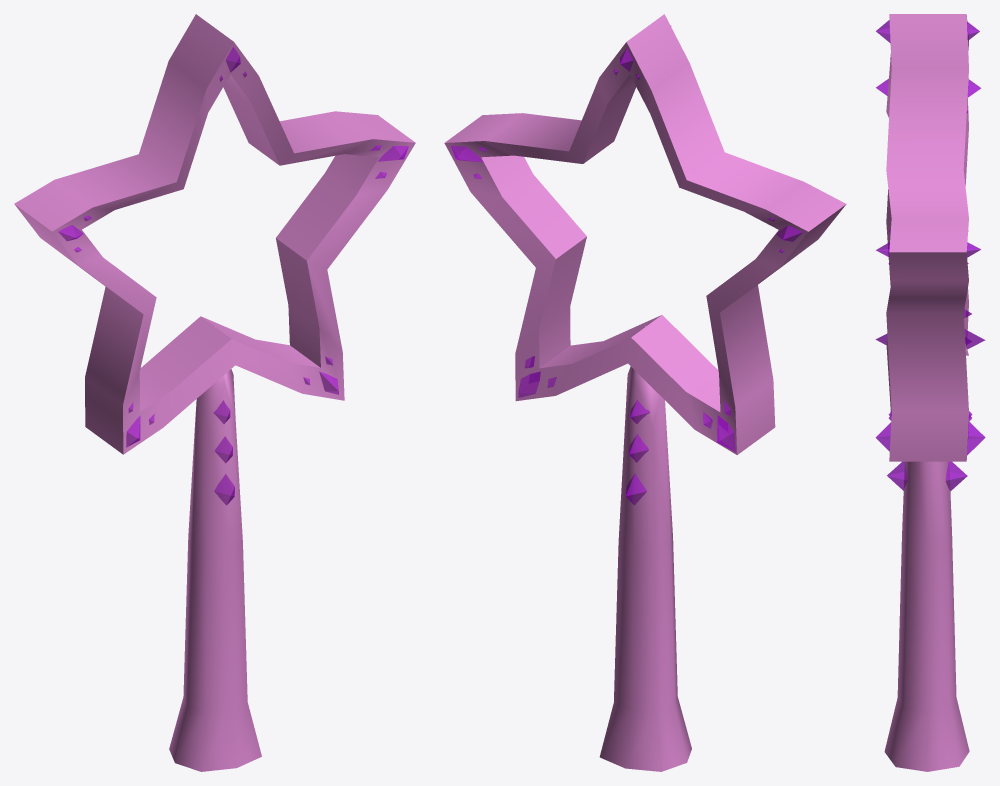
File: Wand.fbx
3 views of the same model, side by side, from view 1: azimuth 30°, elevation 25°; view 2: azimuth 150°, elevation 25°; view 3: azimuth 270°, elevation 25° (orthographic).
Visible parts, largest first — view 1: polySurface33; view 2: polySurface33; view 3: polySurface33.
Part boxes in pixels (x1,y1,x2,y2): polySurface33: (14,14,415,771); polySurface33: (444,14,846,771); polySurface33: (875,14,985,771).
Bounding box in the file's own units: 7.3 × 13.89 × 1.88.
